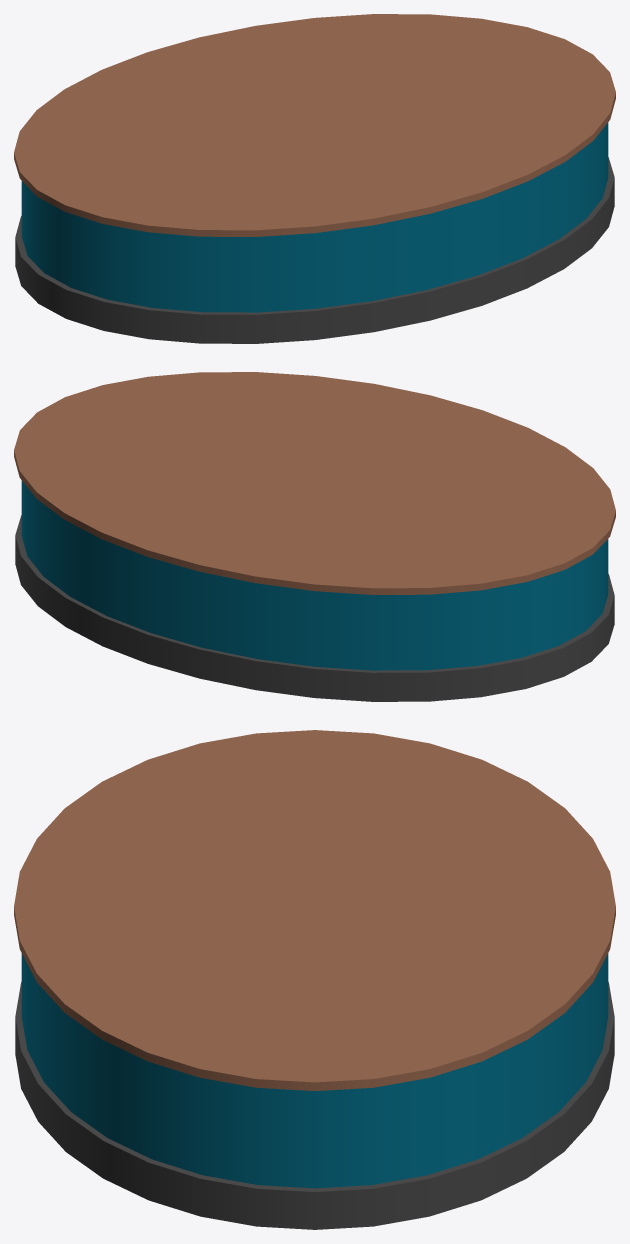
File: M_Table_0.fbx
3 renders of one model, top to bottom at view 1: azimuth 30°, elevation 25°; view 2: azimuth 150°, elevation 25°; view 3: azimuth 270°, elevation 25°, orthographic. The views are drawn at different scales.
Parts seen in each view (by area): view 1: M_Table_0; view 2: M_Table_0; view 3: M_Table_0.
Part boxes in pixels (box(x1,y1,x2,y2)): M_Table_0: box(14, 14, 615, 343); M_Table_0: box(14, 372, 615, 701); M_Table_0: box(14, 730, 615, 1229).
Bounding box in the file's own units: 855 × 168 × 617.
